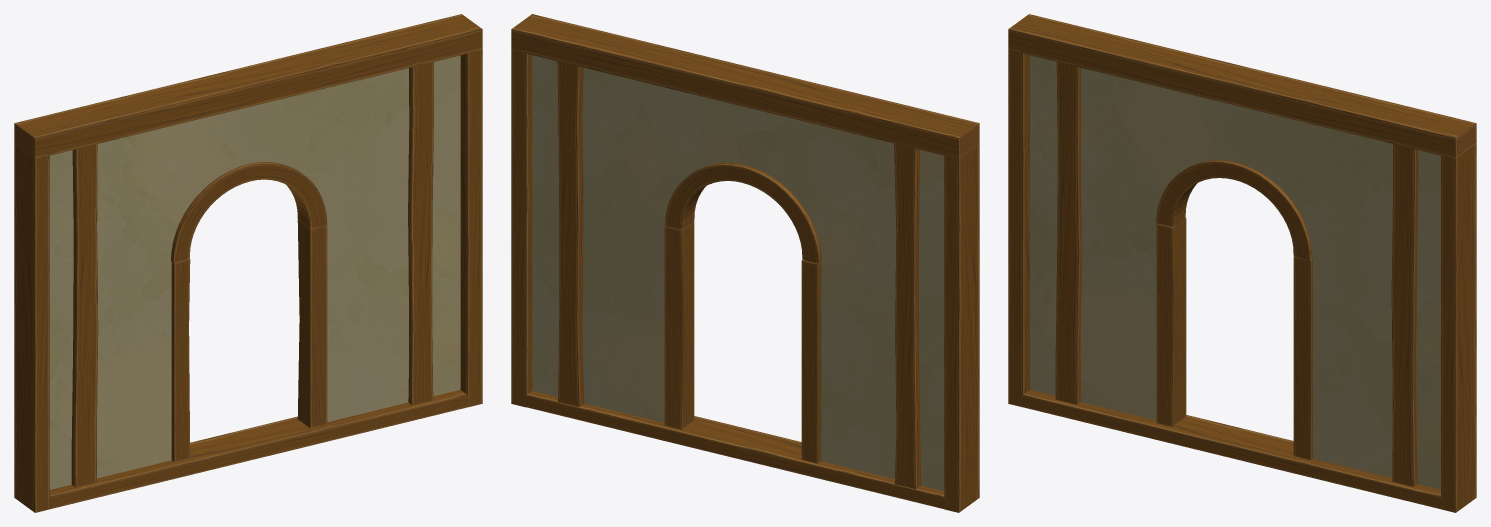
The model's file is SM_House_Wall_5x4_Door_D_02.fbx.
3 renders of one model, left to right at view 1: azimuth 30°, elevation 25°; view 2: azimuth 150°, elevation 25°; view 3: azimuth 330°, elevation 25°, orthographic.
Visible parts, largest first — view 1: SM_House_Wall_5x4_Door_D_02; view 2: SM_House_Wall_5x4_Door_D_02; view 3: SM_House_Wall_5x4_Door_D_02.
Boxes of the visible parts, bbox=[...] form: SM_House_Wall_5x4_Door_D_02: bbox=[14, 14, 482, 512]; SM_House_Wall_5x4_Door_D_02: bbox=[511, 14, 979, 512]; SM_House_Wall_5x4_Door_D_02: bbox=[1008, 14, 1476, 512].
Bounding box in the file's own units: 5 × 4 × 0.4024.
